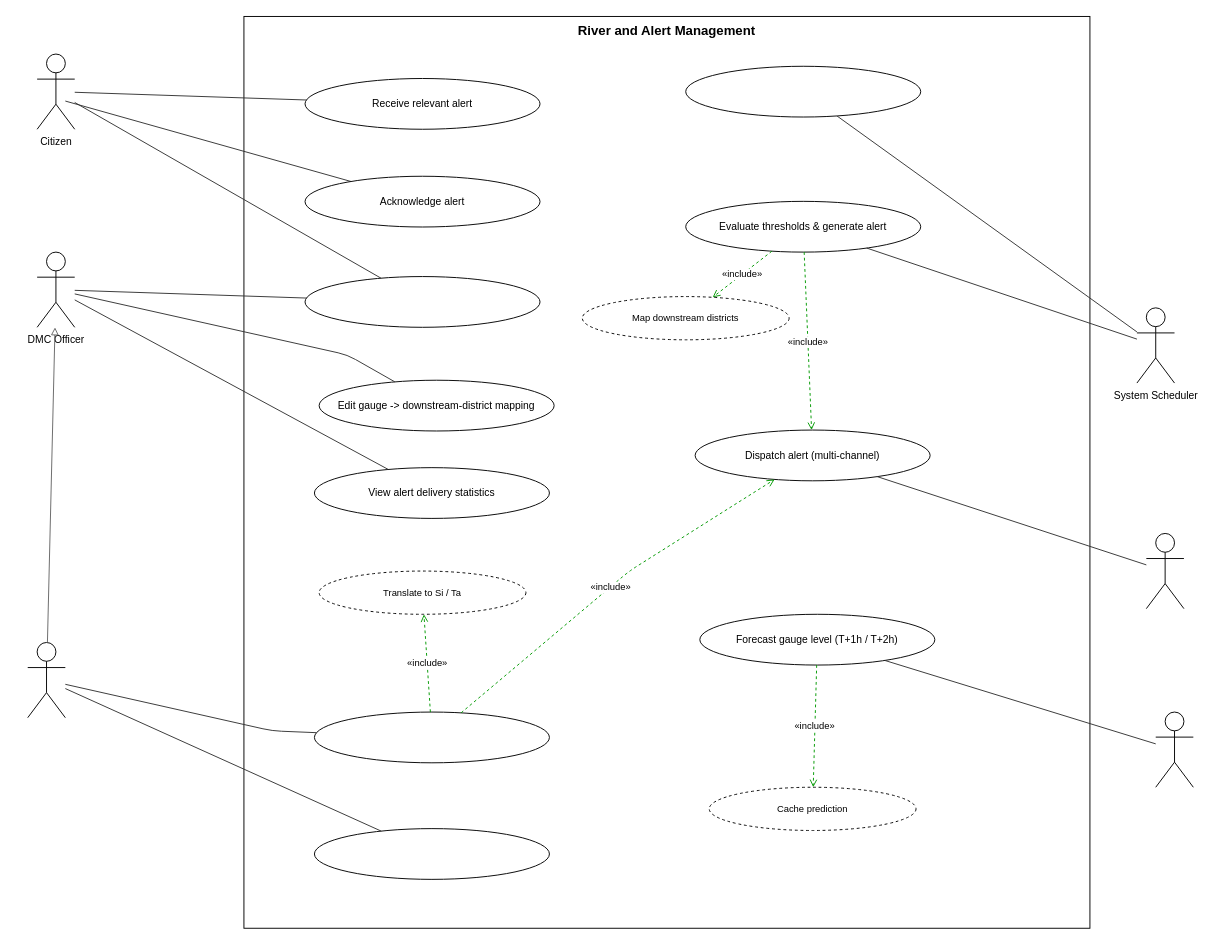
The diagram is 1222 pixels wide and 945 high, and some of its shapes have lost their labels. The centre of each missing label's shape, as x and y in pixels:
"Administrator" belongs at pixel 46 680.
"Create alert manually" belongs at pixel 431 737.
"Deactivate / delete alert" belongs at pixel 431 853.
"External Services" belongs at pixel 1164 571.
"Ingest river / rainfall data" belongs at pixel 803 91.
"ML Service" belongs at pixel 1174 749.
"View river levels / rainfall / predictions" belongs at pixel 422 301.
